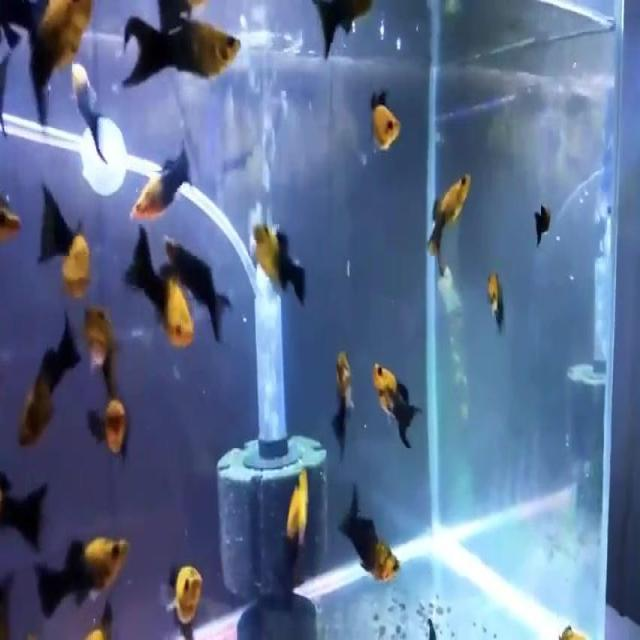PlatyFish: (107, 2, 247, 102), (24, 524, 141, 632), (124, 223, 204, 365), (420, 159, 475, 310), (118, 136, 209, 223), (368, 343, 428, 468)
